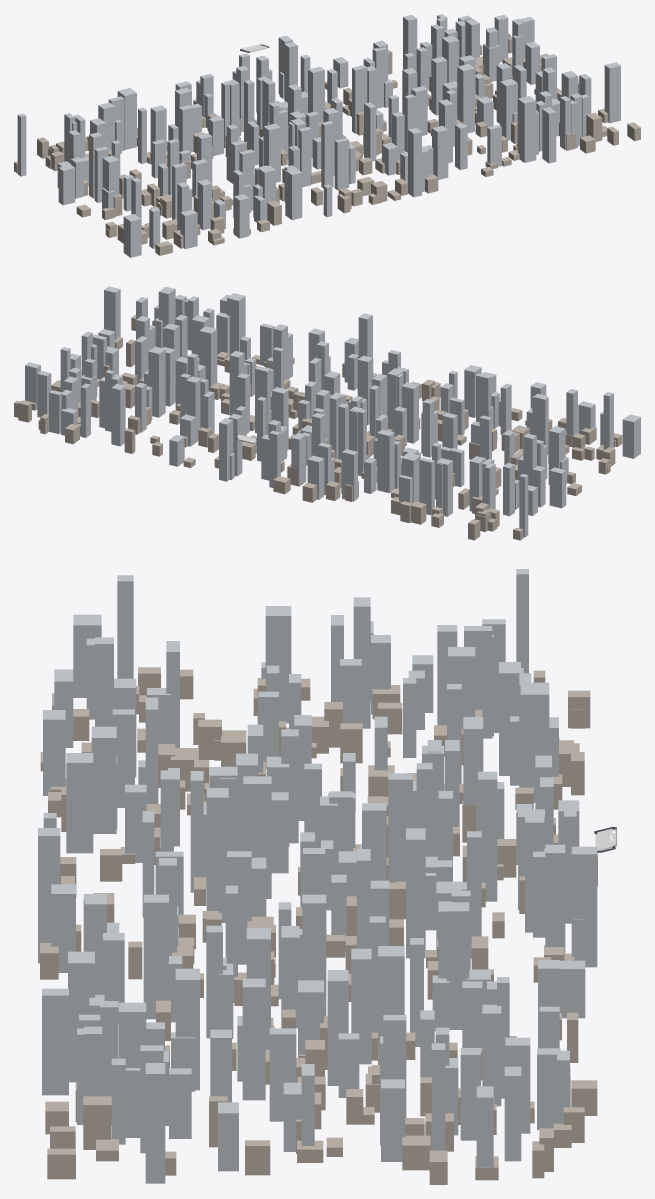
The model's file is L37_existing.glb.
3 views of the same model, one above another, from view 1: azimuth 30°, elevation 25°; view 2: azimuth 150°, elevation 25°; view 3: azimuth 270°, elevation 25° (orthographic). The views are drawn at different scales.
Visible parts, largest first — view 1: City massing; view 2: City massing; view 3: City massing.
Part boxes in pixels (left/top/right/bottom): City massing: left=14, top=14, right=640, bottom=257; City massing: left=14, top=286, right=640, bottom=540; City massing: left=38, top=569, right=597, bottom=1184.
Size of what is drawn, in the model's own units: 1839 by 220 by 905.
